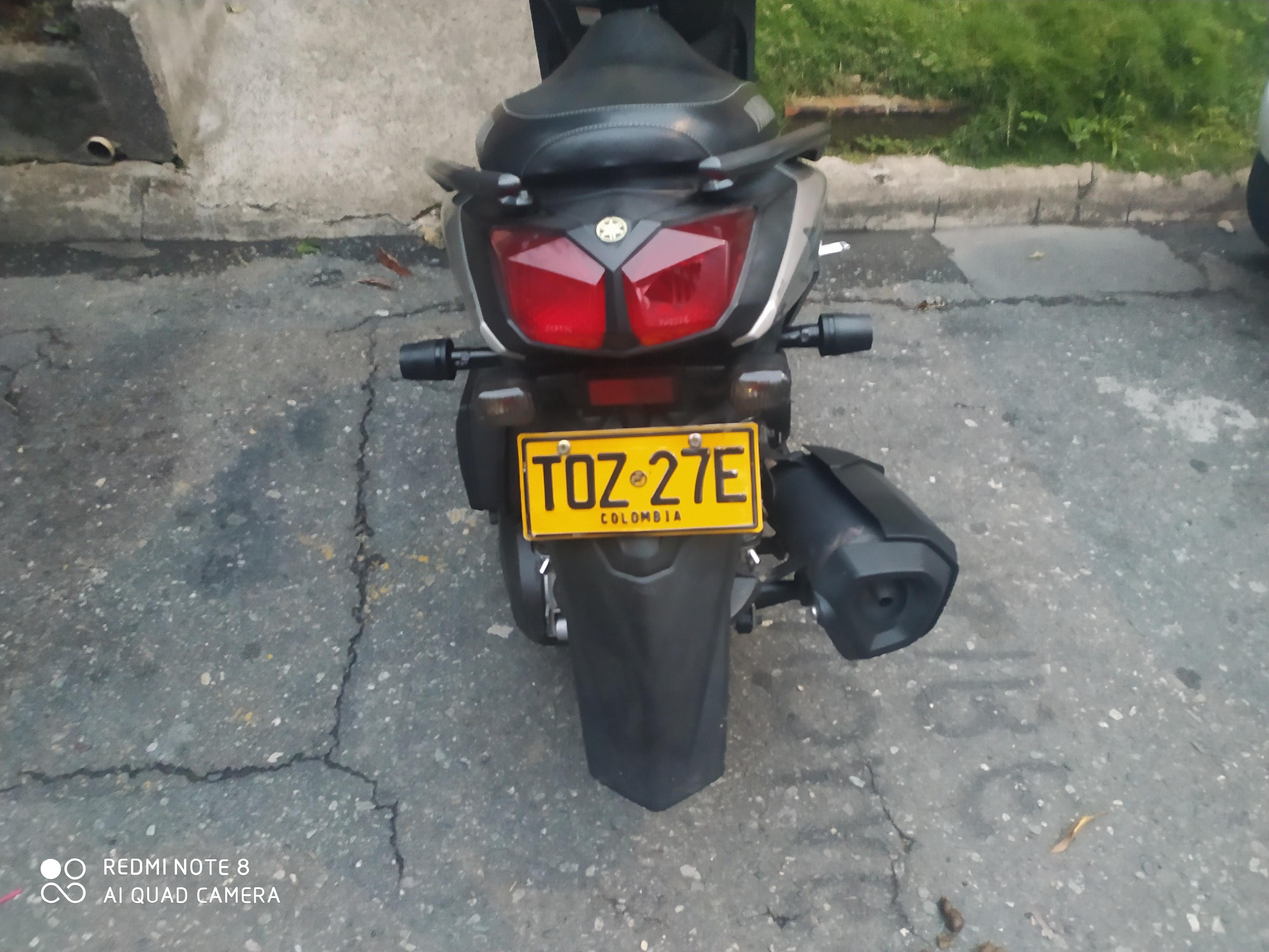placa: (505, 416, 776, 550)
